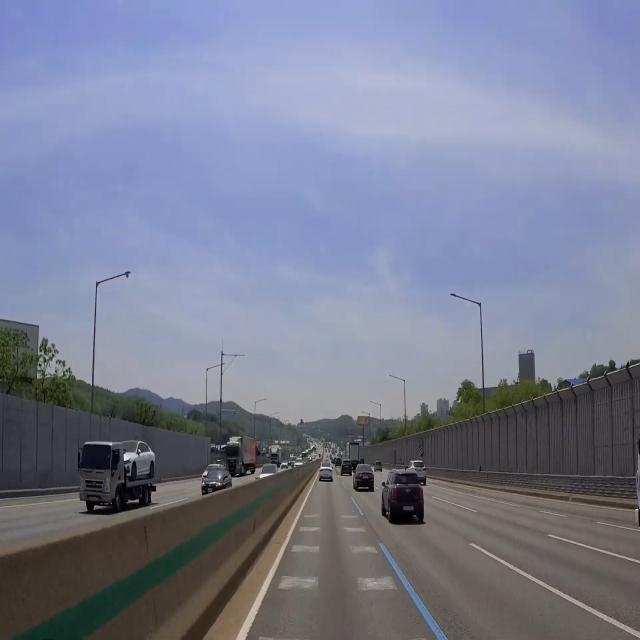car: (87, 494, 101, 504), (403, 504, 415, 513), (206, 487, 213, 495), (362, 474, 369, 482), (322, 473, 330, 478), (344, 465, 349, 468)
